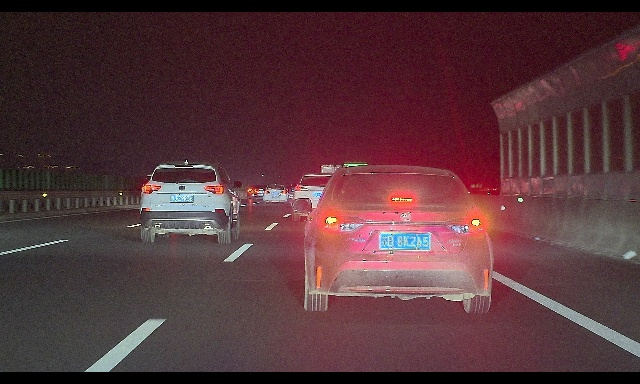car: (293, 164, 494, 314), (139, 159, 243, 244), (291, 174, 342, 221), (263, 184, 289, 204), (252, 185, 273, 200)
truck: (319, 165, 351, 214)
